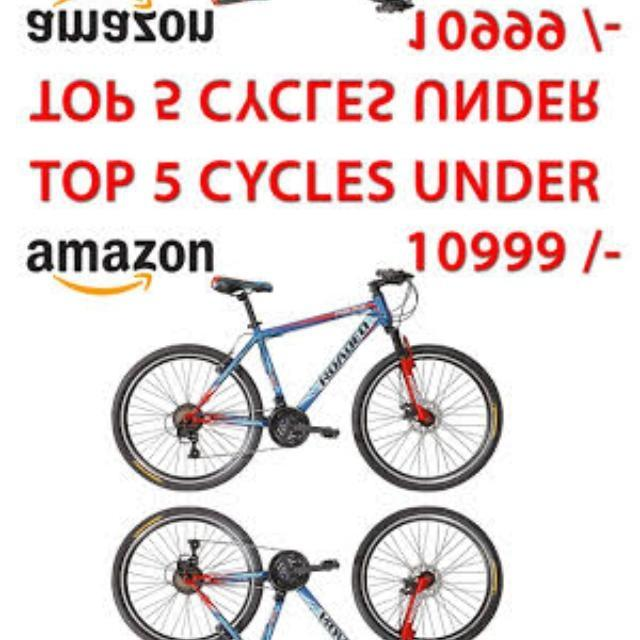obstacle: (118, 264, 516, 484), (118, 512, 515, 640), (118, 0, 515, 16)
